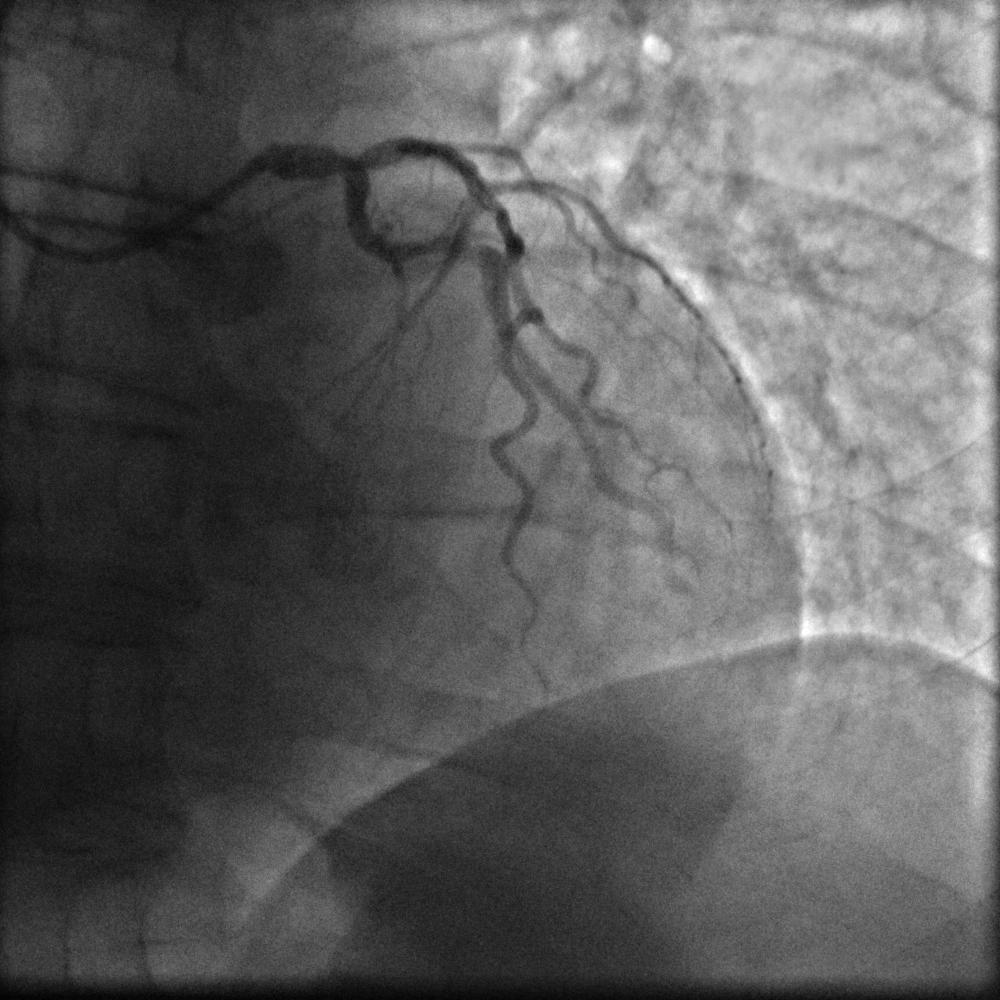Stenosis: (442, 237, 500, 274)
